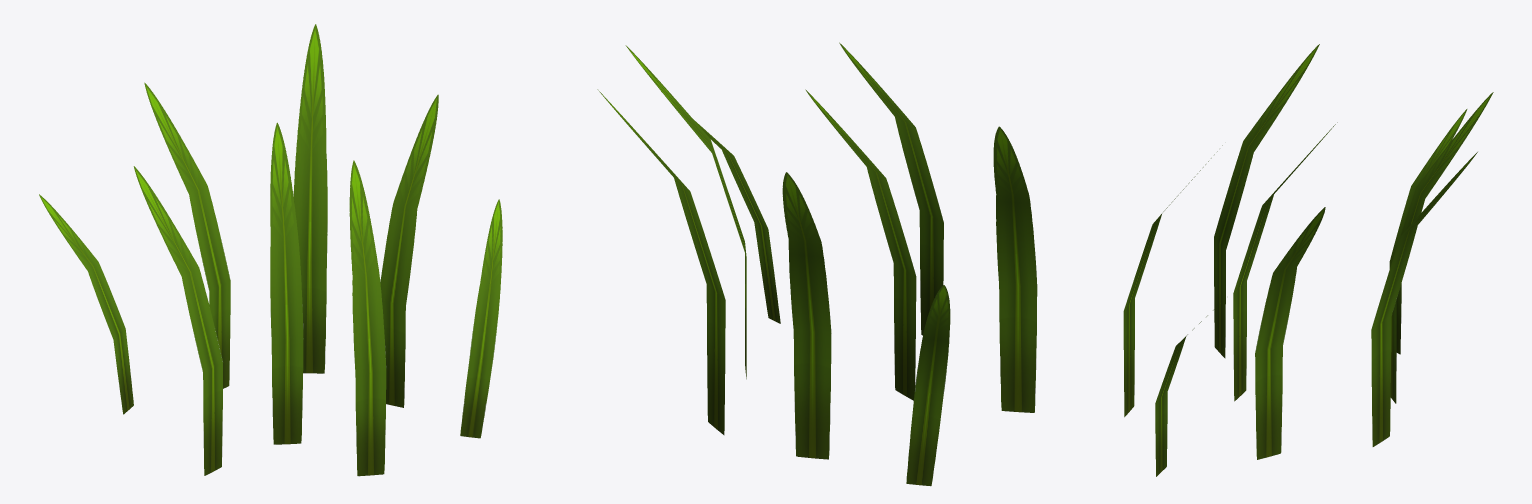
File: Grass2B.glb
3 views of the same model, side by side, from view 1: azimuth 30°, elevation 25°; view 2: azimuth 150°, elevation 25°; view 3: azimuth 270°, elevation 25° (orthographic). The views are drawn at different scales.
Visible parts, largest first — view 1: Grass_04a; view 2: Grass_04a; view 3: Grass_04a.
Part boxes in pixels (x1,y1,x2,y2): Grass_04a: [39, 24, 502, 476]; Grass_04a: [597, 42, 1037, 486]; Grass_04a: [1123, 44, 1493, 476].
Size of the model in its own units: 15.38 by 11.29 by 12.55.
Materials: 1 (1 with a texture image).
